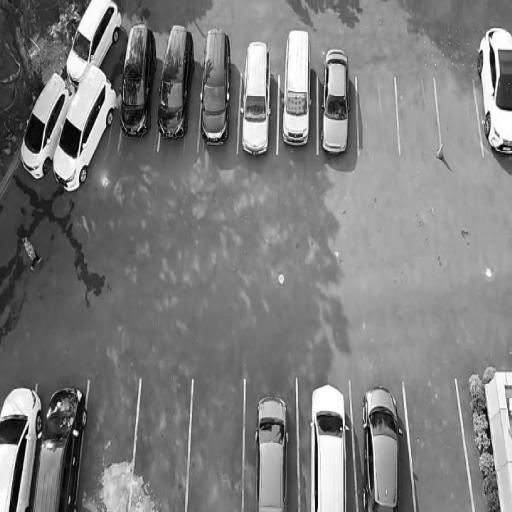Car: (44, 55, 121, 200), (24, 381, 88, 512), (11, 63, 76, 187), (62, 0, 132, 90), (0, 379, 45, 512), (305, 380, 350, 512), (360, 381, 402, 512), (475, 19, 512, 162), (156, 22, 192, 145), (119, 22, 156, 140), (198, 23, 232, 148), (239, 35, 273, 160), (253, 391, 288, 512), (281, 24, 312, 154), (320, 37, 351, 159)
Space Available: (403, 378, 474, 512), (72, 376, 140, 511), (127, 373, 192, 512), (185, 377, 245, 511), (435, 79, 483, 155), (396, 77, 441, 154), (356, 77, 399, 153)
